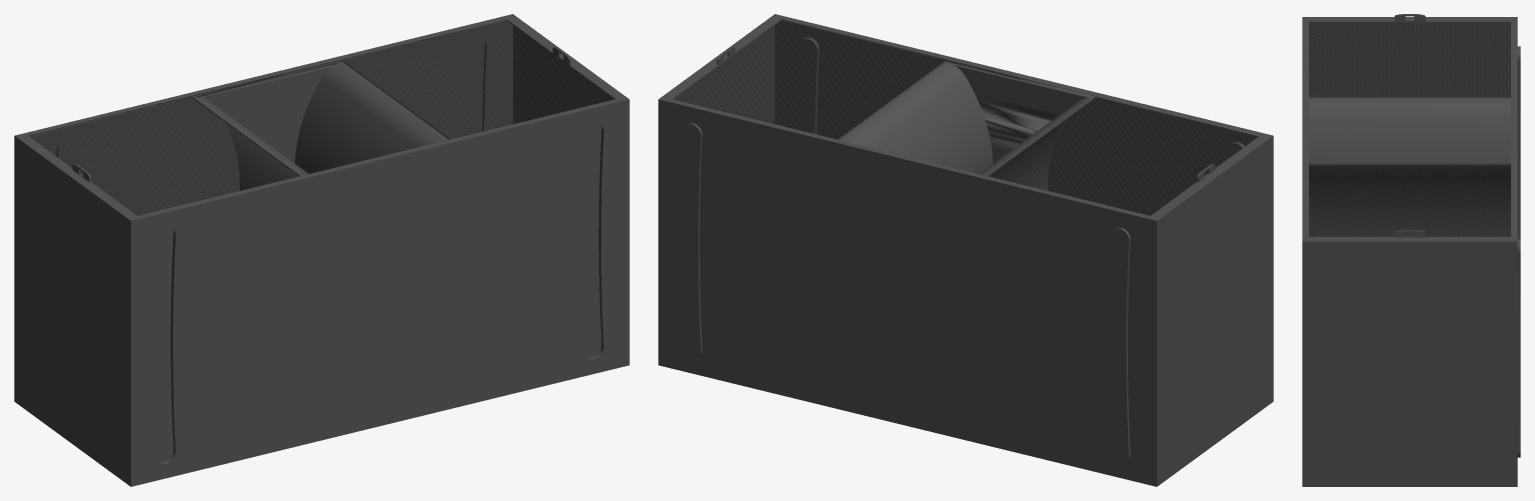
File: subwoofer.glb
3 renders of one model, left to right at view 1: azimuth 30°, elevation 25°; view 2: azimuth 150°, elevation 25°; view 3: azimuth 270°, elevation 25°, orthographic. The views are drawn at different scales.
Parts seen in each view (by area): view 1: empty_6.001; view 2: empty_6.001; view 3: empty_6.001.
Part boxes in pixels (x1=…): empty_6.001: x1=14, y1=14, x2=629, y2=486; empty_6.001: x1=658, y1=14, x2=1273, y2=486; empty_6.001: x1=1302, y1=14, x2=1520, y2=486.
Size of the model in its own units: 1.34 by 0.702 by 0.55.
Materials: 2 (2 with a texture image).
